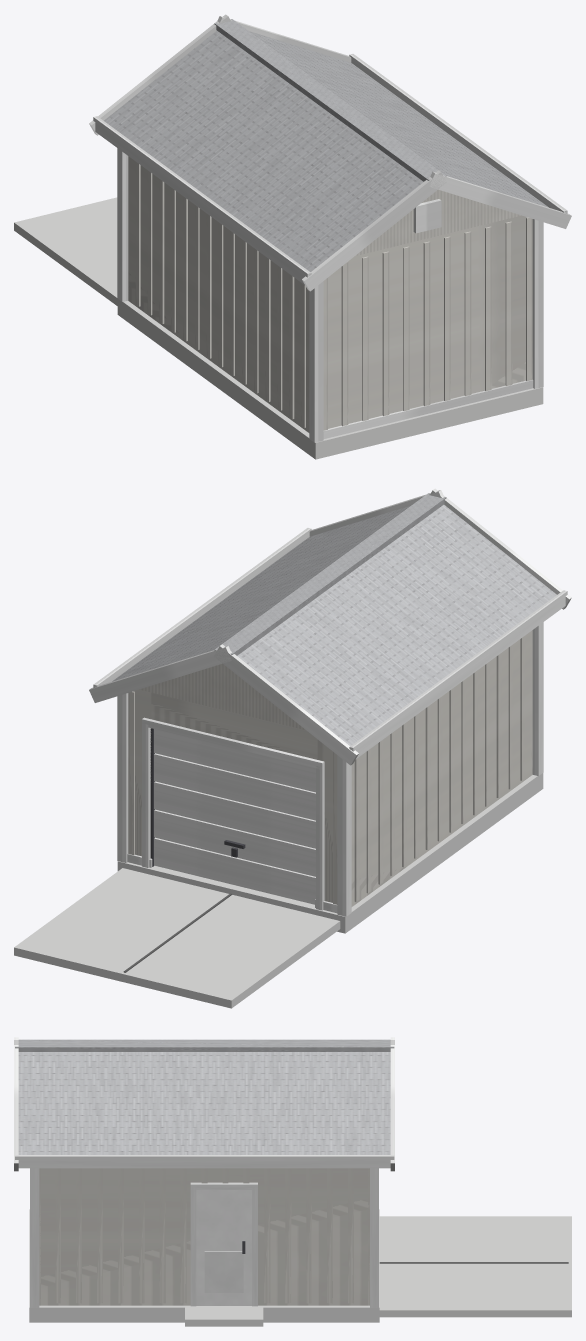
File: garage.glb
The picture shows the model from 3 angles, top to bottom: view 1: azimuth 30°, elevation 25°; view 2: azimuth 150°, elevation 25°; view 3: azimuth 270°, elevation 25°; orthographic projection. The views are drawn at different scales.
Visible parts, largest first — view 1: Roof_West, Wall_Rear, Wall_West, Roof_East, Foundation, Apron, RidgeCap, FasciaEave_-1, Gable_Rear, Barge_R_-1, FasciaEave_1, CornerTrim_-1-1 (+33 smaller); view 2: Roof_West, Apron, Wall_West, Roof_East, Foundation, RidgeCap, DoorSlat_3, DoorSlat_2, DoorSlat_0, Wall_Front_Head, DoorSlat_1, DoorSlat_4 (+32 smaller); view 3: Roof_East, Wall_East, Apron, FasciaEave_1, Foundation, PersonDoor, RidgeCap, PersonPanel, PersonStep, CornerTrim_1-1, CornerTrim_11, Batten_E_-2 (+17 smaller).
Boxes of the visible parts, <box> form: Roof_West: <box>104,31,423,271</box>; Wall_Rear: <box>328,215,527,428</box>; Wall_West: <box>128,157,309,432</box>; Roof_East: <box>250,31,548,207</box>; Foundation: <box>117,299,543,459</box>; Apron: <box>14,197,117,305</box>; RidgeCap: <box>214,19,446,181</box>; FasciaEave_-1: <box>93,116,311,284</box>; Gable_Rear: <box>355,189,521,255</box>; Barge_R_-1: <box>302,170,446,291</box>; FasciaEave_1: <box>349,54,567,214</box>; CornerTrim_-1-1: <box>309,281,323,442</box>; Roof_West: <box>237,505,556,746</box>; Apron: <box>14,868,340,1008</box>; Wall_West: <box>351,631,531,906</box>; Roof_East: <box>112,505,410,681</box>; Foundation: <box>117,773,543,933</box>; RidgeCap: <box>214,493,446,655</box>; DoorSlat_3: <box>154,753,315,820</box>; DoorSlat_2: <box>154,781,315,848</box>; DoorSlat_0: <box>154,837,315,904</box>; Wall_Front_Head: <box>151,692,317,759</box>; DoorSlat_1: <box>154,809,315,876</box>; DoorSlat_4: <box>154,729,315,792</box>; Roof_East: <box>18,1052,390,1154</box>; Wall_East: <box>39,1168,369,1305</box>; Apron: <box>379,1216,571,1317</box>; FasciaEave_1: <box>15,1155,394,1168</box>; Foundation: <box>29,1209,379,1322</box>; PersonDoor: <box>196,1190,251,1305</box>; RidgeCap: <box>15,1039,394,1051</box>; PersonPanel: <box>204,1251,243,1292</box>; PersonStep: <box>185,1305,263,1326</box>; CornerTrim_1-1: <box>30,1168,39,1307</box>; CornerTrim_11: <box>370,1168,378,1307</box>; Batten_E_-2: <box>159,1168,165,1303</box>.
Size of the model in its own units: 4.34 by 3.96 by 8.54.
Materials: 7 (7 with a texture image).
